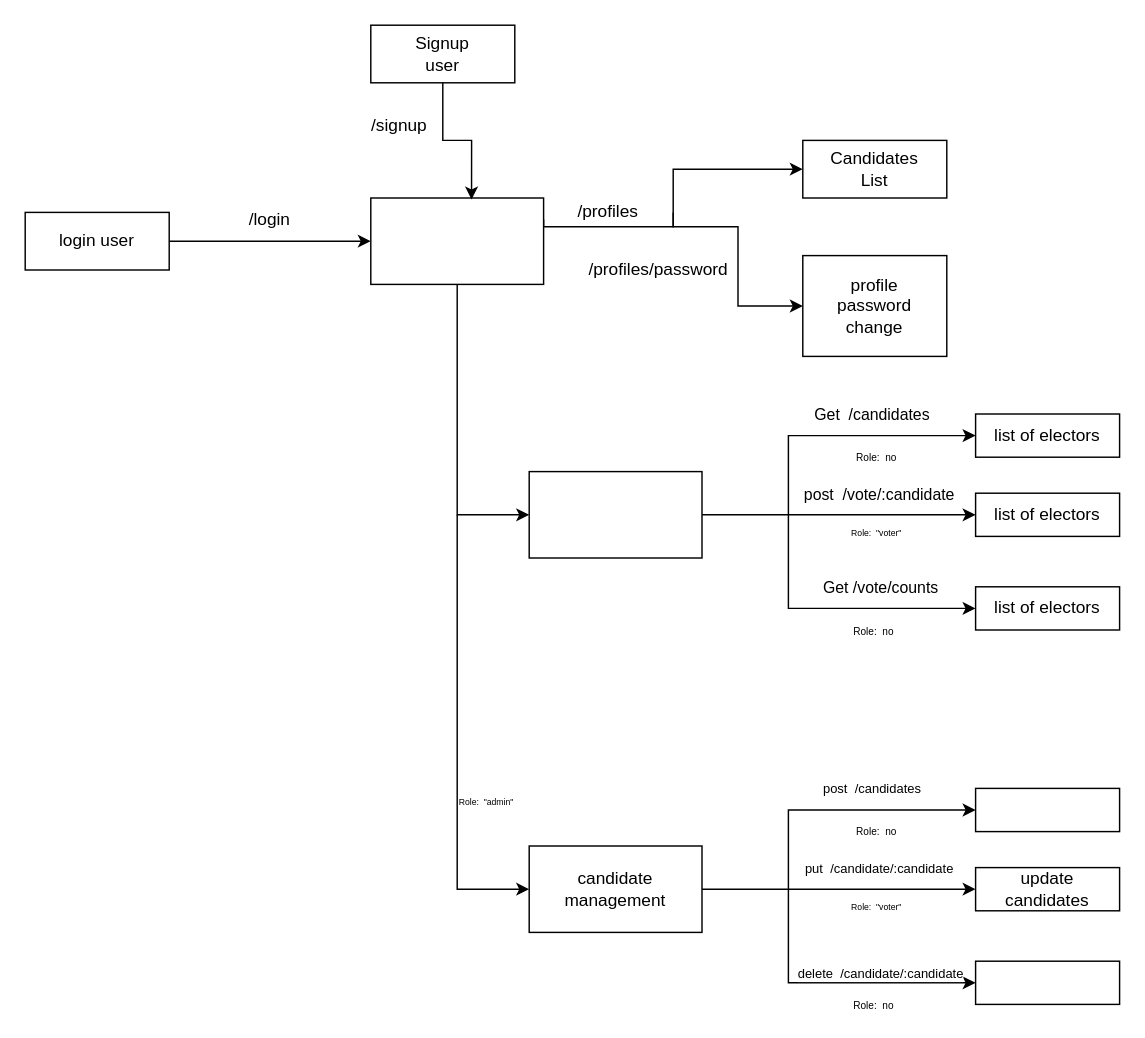
Image size: 1145x1038. Some labels were removed from this diagram. The centre of each missing label's shape, as x and y in pixels:
create candidate: point (1047, 809)
delete candidate: point (1047, 982)
User: point (456, 240)
votes: point (615, 514)
